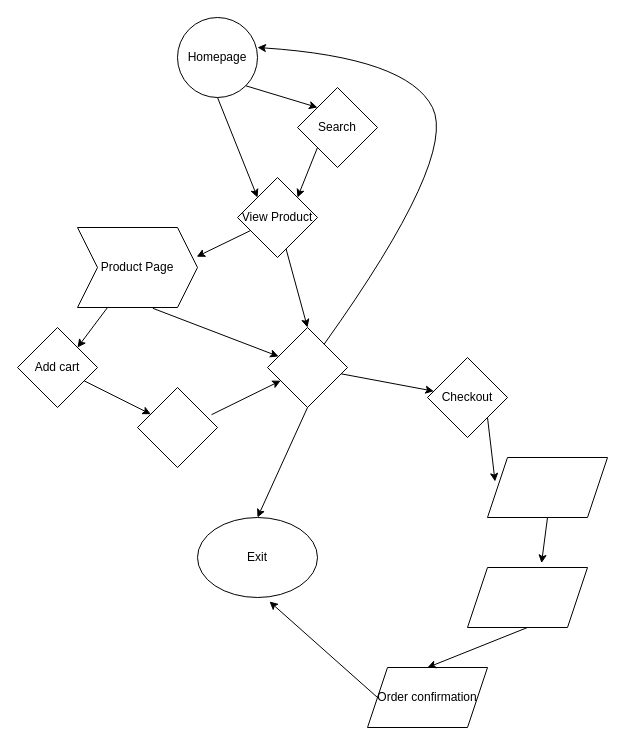
Image size: 625x745. Some labels were removed from this diagram. The centre of each missing label's shape, as x and y in pixels:
"Confirmation" belongs at point 177,427.
"Continue shopping" belongs at point 307,367.
"payment info" belongs at point 527,597.
"Payment screen" belongs at point 547,487.
